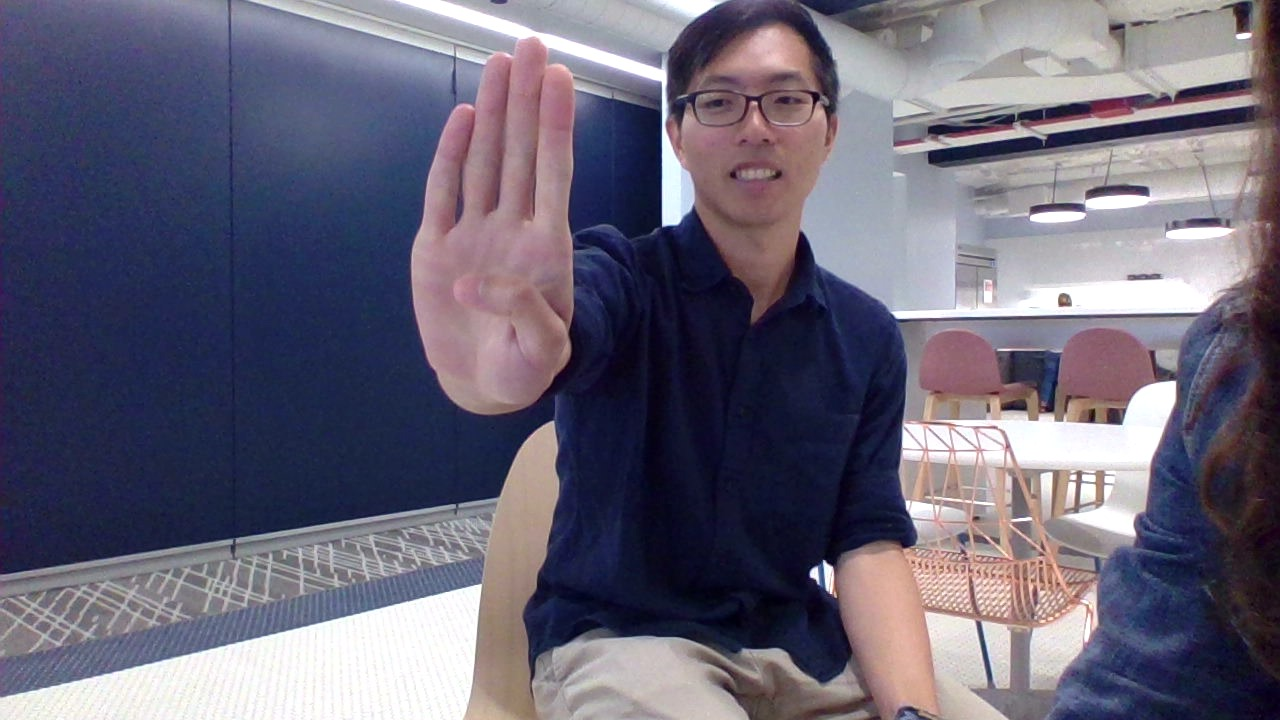b: (386, 23, 602, 432)
